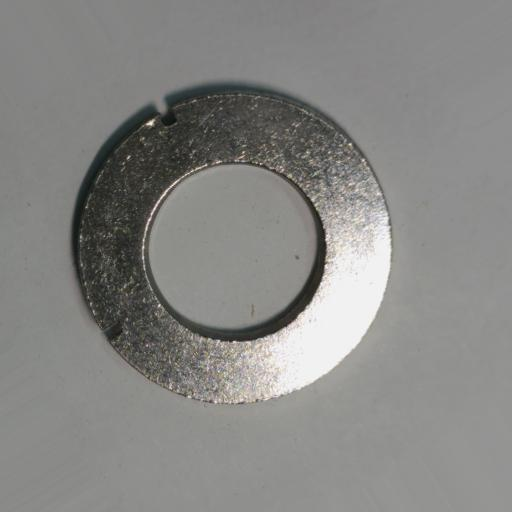burr: (155, 104, 179, 130), (101, 319, 124, 342)
